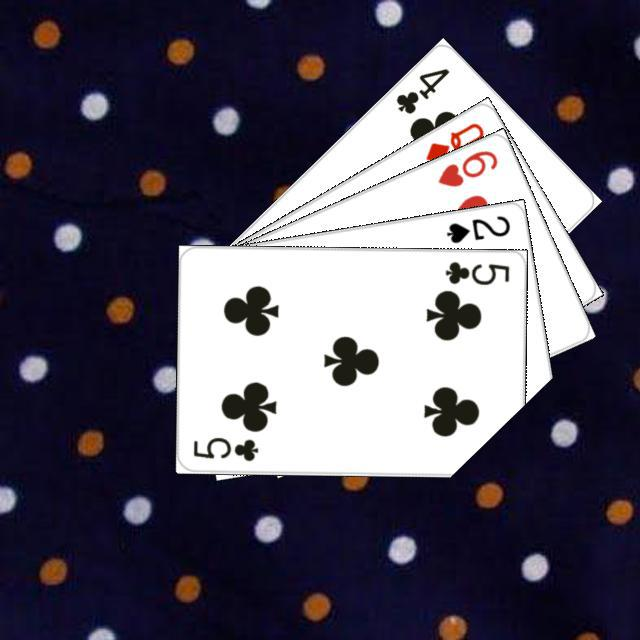2s: (441, 210, 512, 245)
4c: (391, 63, 452, 116)
5c: (188, 433, 260, 463), (440, 257, 511, 286)
6h: (432, 145, 500, 189)
Qd: (420, 117, 486, 165)
